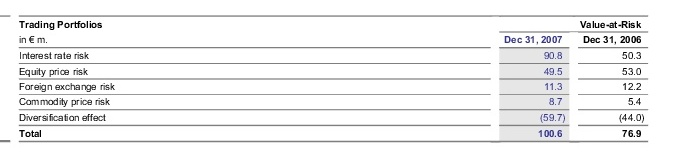table: (0, 0, 673, 161)
